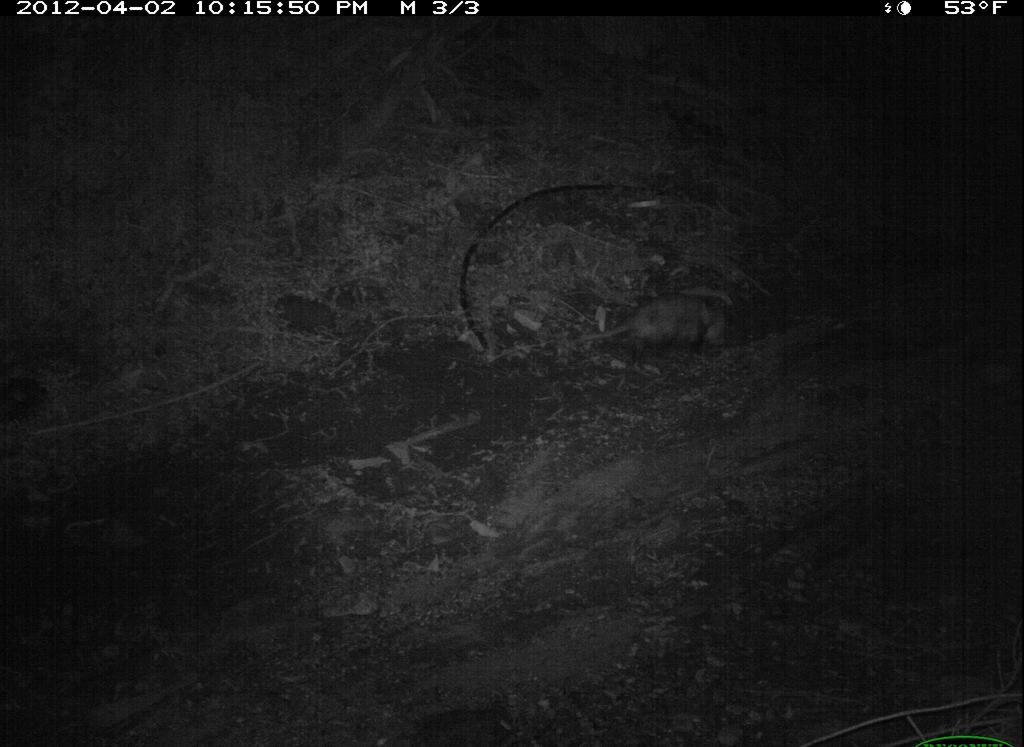opossum: (547, 289, 739, 368)
